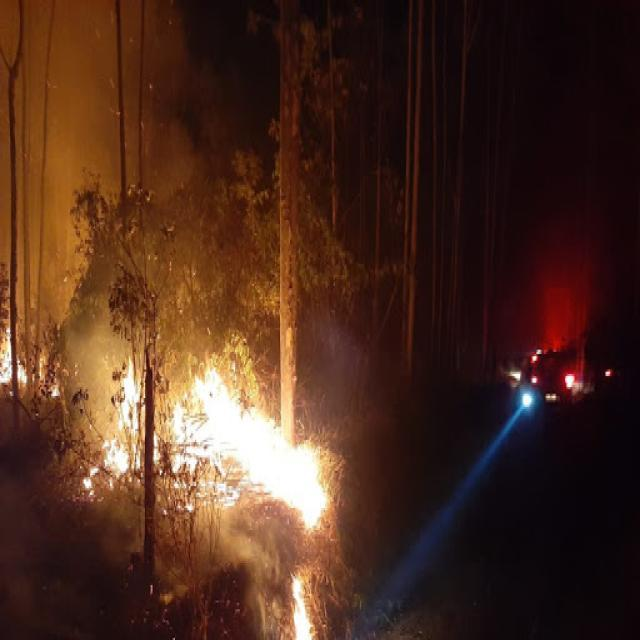Fire: (166, 370, 329, 534), (84, 352, 138, 495), (4, 332, 32, 387)
Smoke: (9, 16, 212, 290)
